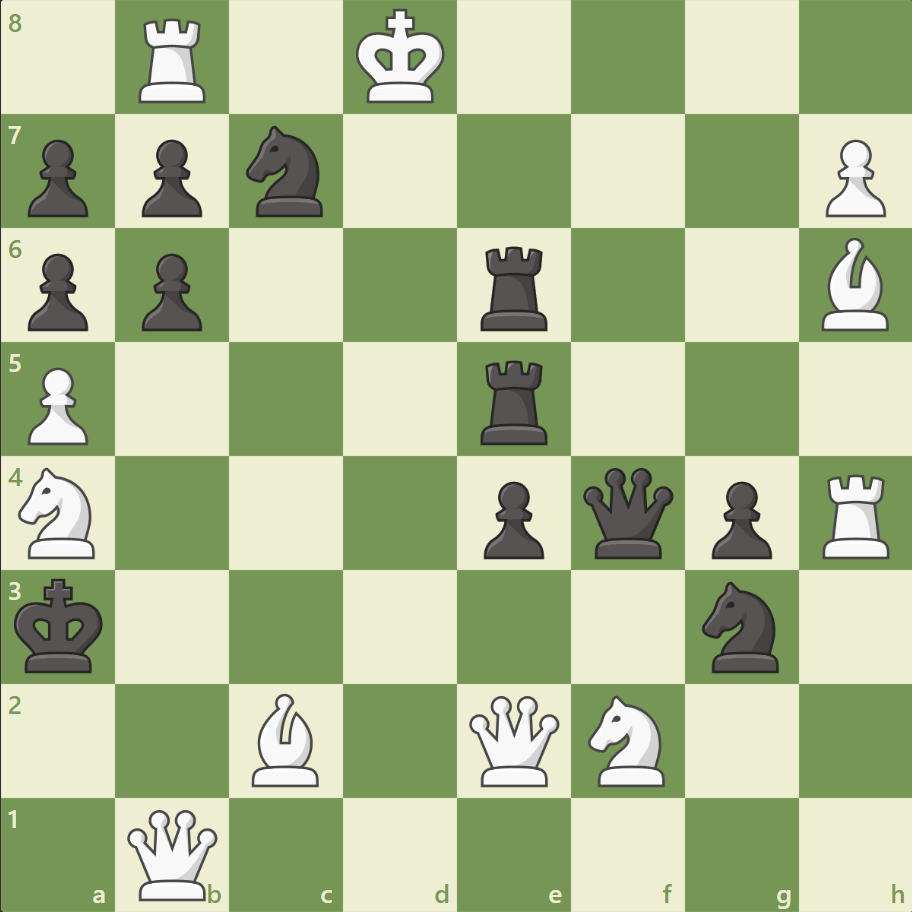B: (812, 233, 896, 336), (244, 687, 328, 790)
K: (351, 4, 451, 112)
N: (11, 461, 108, 564), (579, 688, 676, 791)
P: (20, 359, 95, 450), (815, 132, 889, 223)
Q: (464, 690, 563, 789), (124, 804, 223, 903)
R: (814, 466, 897, 563), (133, 12, 215, 109)
k: (11, 571, 111, 679)
n: (238, 121, 335, 223), (692, 575, 789, 677)
p: (20, 132, 95, 223), (133, 132, 208, 223), (20, 246, 95, 337), (133, 246, 208, 337), (474, 473, 549, 564), (701, 473, 776, 564)
q: (578, 463, 677, 562)
r: (473, 239, 556, 336), (473, 352, 556, 449)
